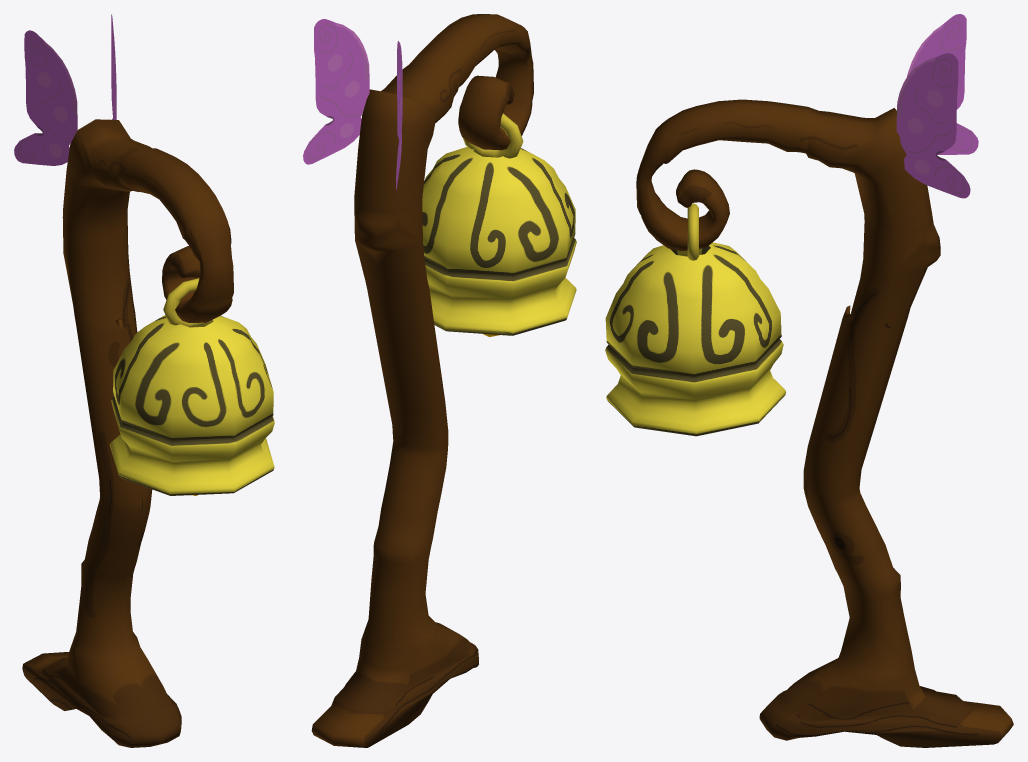
File: TreeWBell.glb
The picture shows the model from 3 angles, left to right: view 1: azimuth 30°, elevation 25°; view 2: azimuth 150°, elevation 25°; view 3: azimuth 270°, elevation 25°; orthographic projection. The views are drawn at different scales.
Visible parts, largest first — view 1: Tree.001, Circle, Plane.001, Torus.001, Plane; view 2: Tree.001, Circle, Plane, Torus.001, Plane.001; view 3: Tree.001, Circle, Plane, Plane.001.
Boxes of the visible parts, x1=… form: Tree.001: x1=22, y1=119, x2=233, y2=747; Circle: x1=110, y1=315, x2=274, y2=495; Plane.001: x1=14, y1=30, x2=77, y2=165; Torus.001: x1=163, y1=278, x2=205, y2=327; Plane: x1=111, y1=14, x2=116, y2=119; Tree.001: x1=311, y1=14, x2=533, y2=747; Circle: x1=422, y1=147, x2=576, y2=335; Plane: x1=303, y1=19, x2=369, y2=164; Torus.001: x1=463, y1=113, x2=523, y2=158; Plane.001: x1=396, y1=41, x2=402, y2=189; Tree.001: x1=636, y1=99, x2=1013, y2=747; Circle: x1=605, y1=242, x2=785, y2=436; Plane: x1=896, y1=53, x2=970, y2=198; Plane.001: x1=907, y1=14, x2=978, y2=154.
Size of what is drawn, in the model's own units: 1.1 by 4.73 by 2.51.
Materials: 5 (3 with a texture image).
